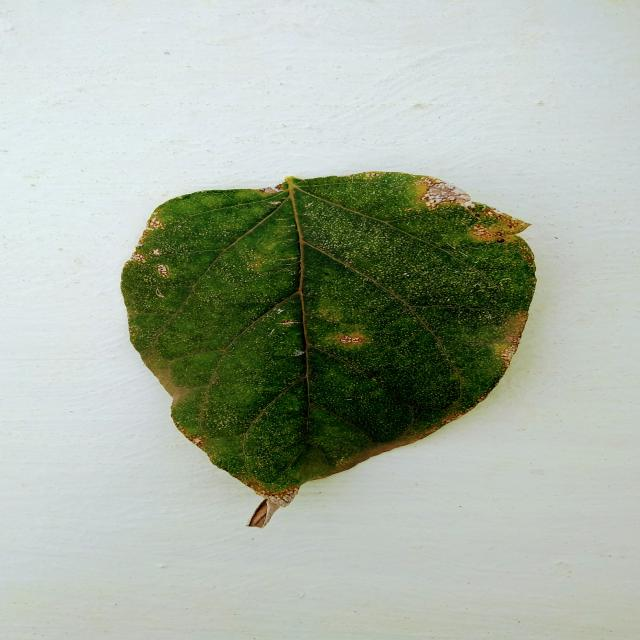Parijatha: (122, 171, 536, 528)
